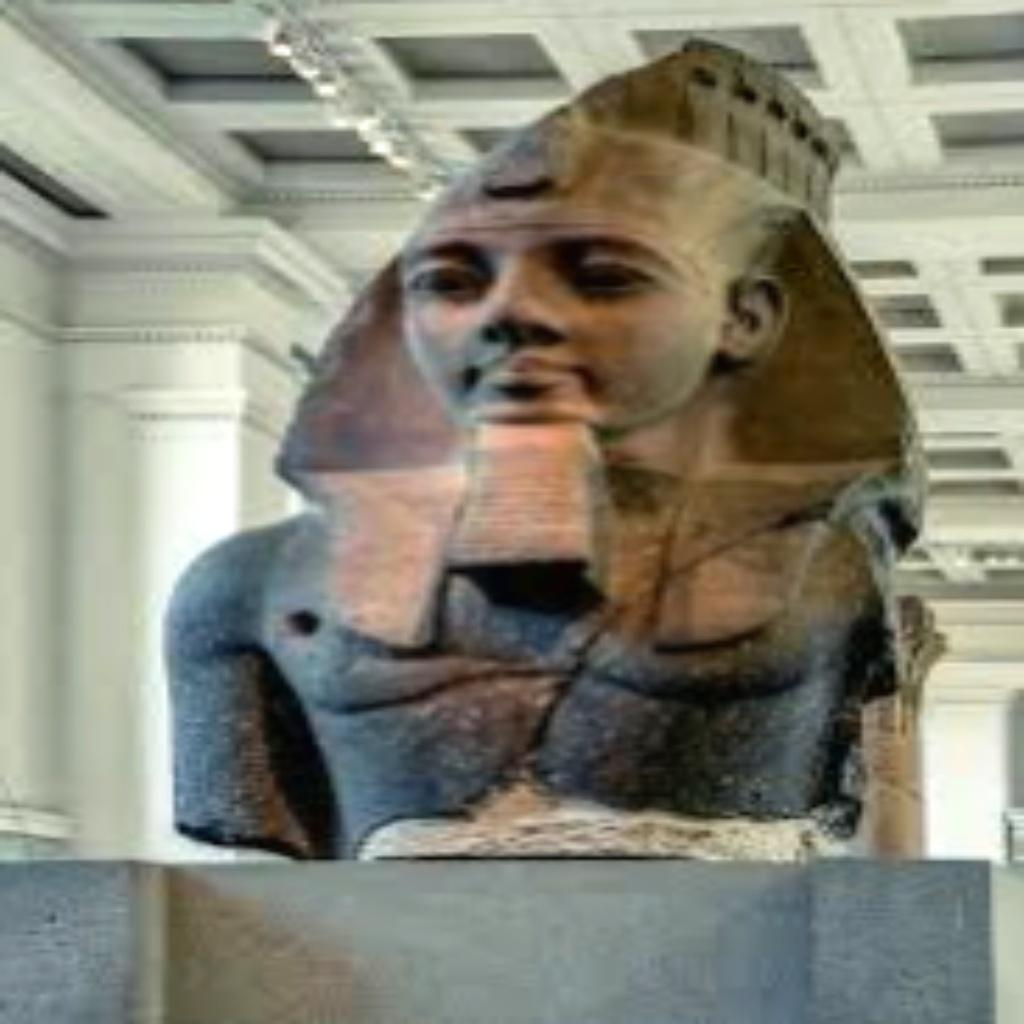bust of Ramesses II: (151, 30, 946, 864)
